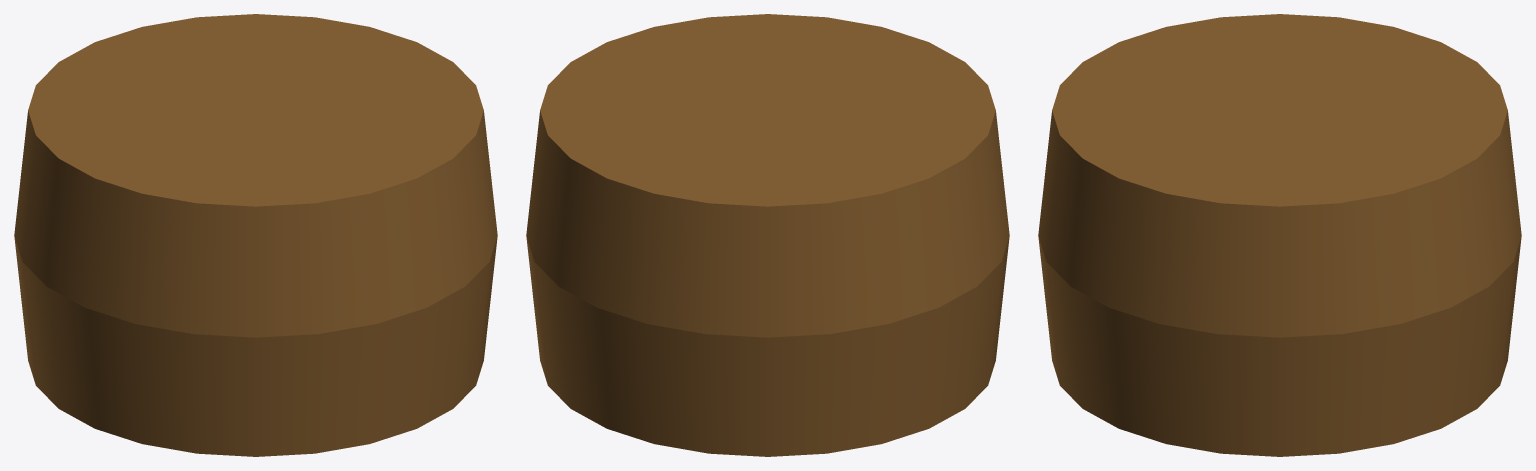
The model's file is original-1.obj.
3 renders of one model, left to right at view 1: azimuth 30°, elevation 25°; view 2: azimuth 150°, elevation 25°; view 3: azimuth 270°, elevation 25°, orthographic.
Parts seen in each view (by area): view 1: Group2/mesh1/mesh1-geometry#mesh1-geometry; view 2: Group2/mesh1/mesh1-geometry#mesh1-geometry; view 3: Group2/mesh1/mesh1-geometry#mesh1-geometry.
Part boxes in pixels (x1=…): Group2/mesh1/mesh1-geometry#mesh1-geometry: x1=14, y1=14, x2=497, y2=456; Group2/mesh1/mesh1-geometry#mesh1-geometry: x1=526, y1=14, x2=1009, y2=456; Group2/mesh1/mesh1-geometry#mesh1-geometry: x1=1038, y1=14, x2=1521, y2=456.
Bounding box in the file's own units: 0.2408 × 0.1376 × 0.2408.
